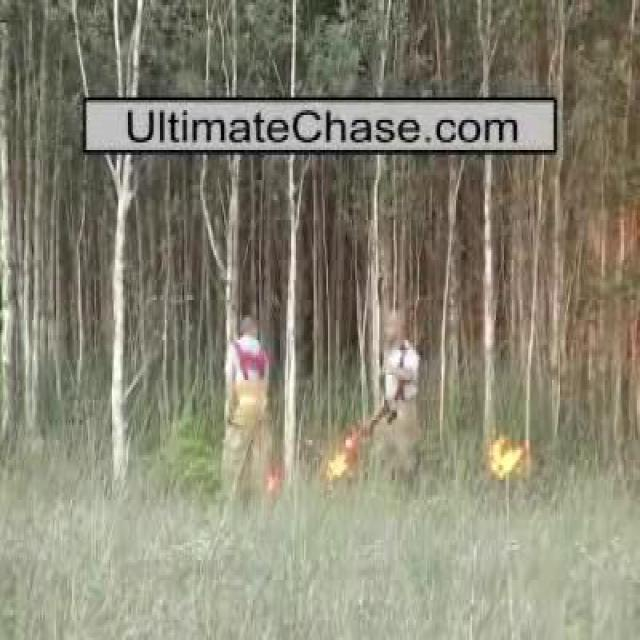fire: (318, 417, 362, 498), (478, 427, 530, 484), (262, 460, 281, 493)
other: (226, 384, 258, 412)
